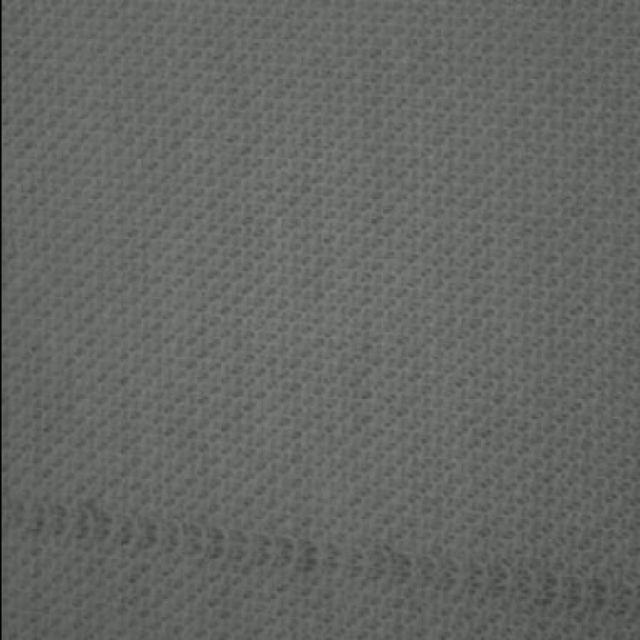Line: (6, 494, 640, 622)
